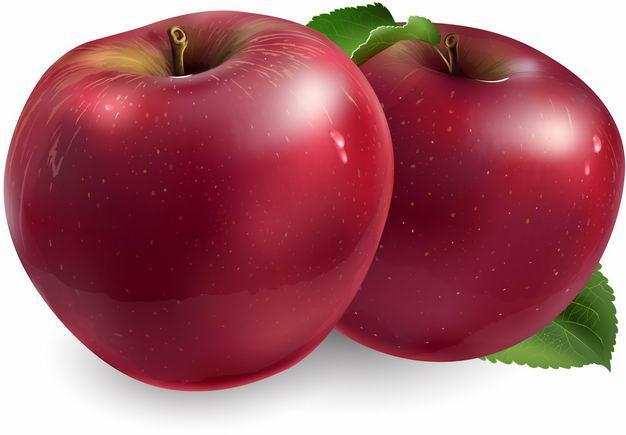apple: (5, 15, 389, 388), (308, 21, 618, 362)
